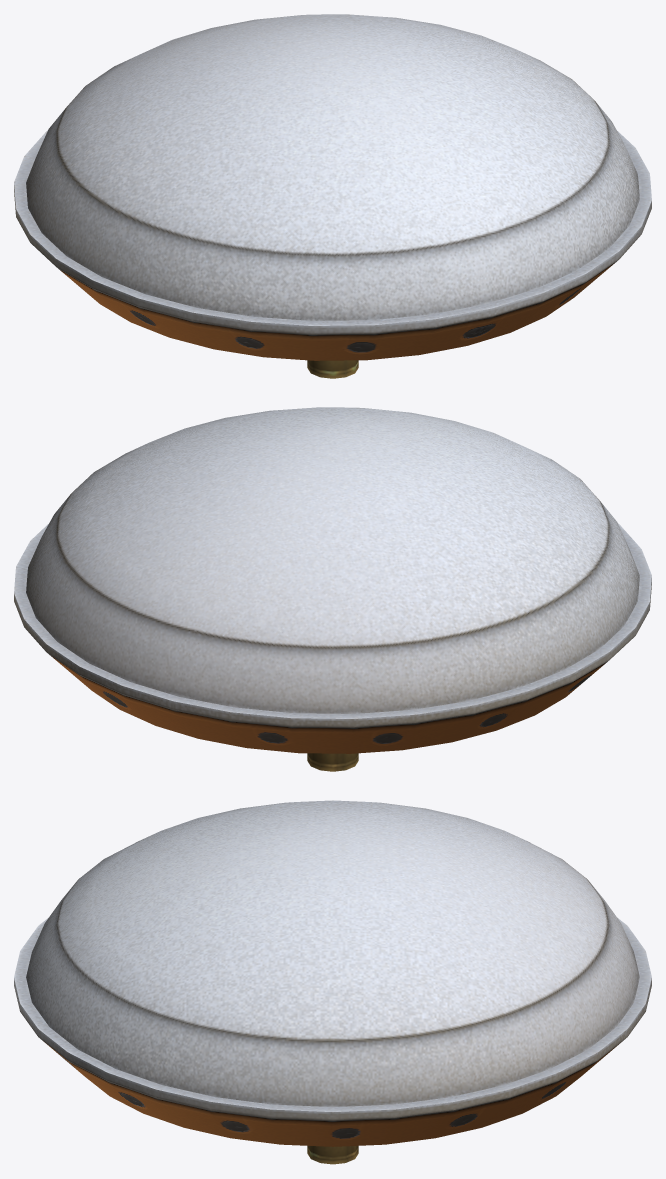
File: gps.dae
3 renders of one model, top to bottom at view 1: azimuth 30°, elevation 25°; view 2: azimuth 150°, elevation 25°; view 3: azimuth 270°, elevation 25°, orthographic.
Parts seen in each view (by area): view 1: GPS; view 2: GPS; view 3: GPS.
Part boxes in pixels (x1,y1,x2,y2): GPS: (14,14,651,378); GPS: (14,407,651,771); GPS: (14,800,651,1164).
Size of the model in its own units: 31.26 by 31.26 by 16.59.
